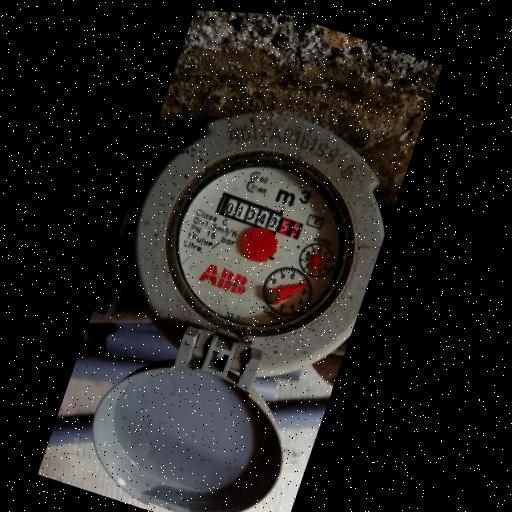0: (220, 196, 237, 217)
1: (230, 200, 248, 220)
3: (241, 203, 259, 224), (264, 212, 281, 233)
4: (253, 207, 271, 228), (287, 219, 303, 239)
5: (275, 215, 292, 236)
border_water_meter_number: (212, 191, 306, 242)
